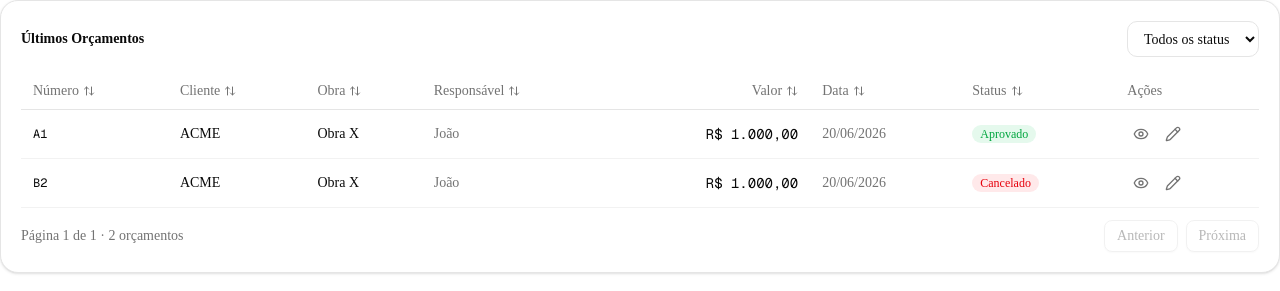
Scenario: TabelaUltimosOrcamentos › filtra por status
Select "Aprovado" in the dropdown named "filtrar por status" at (1193, 39), box [1127,21,1259,57]
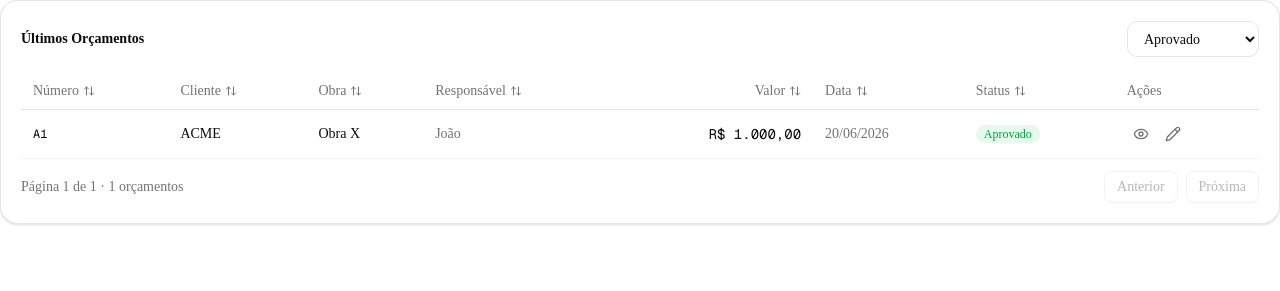
Expected: the text "A1" is shown, [21,110,168,158]
Now the text "B2" is gone
